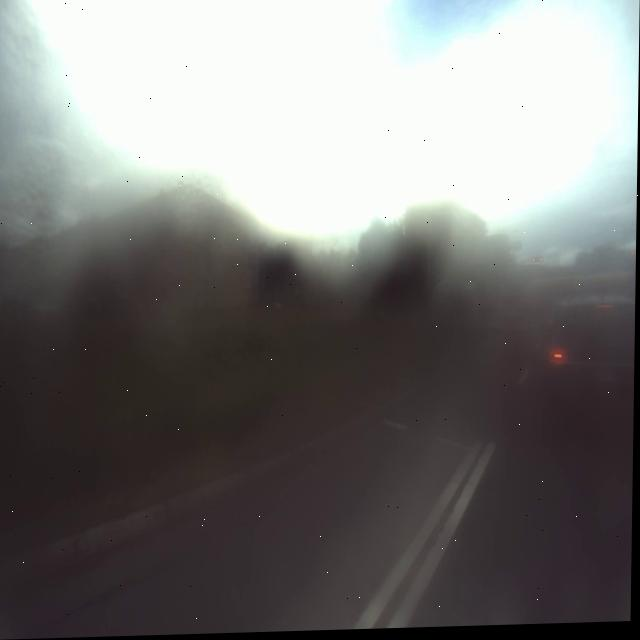car: (536, 282, 637, 449)
